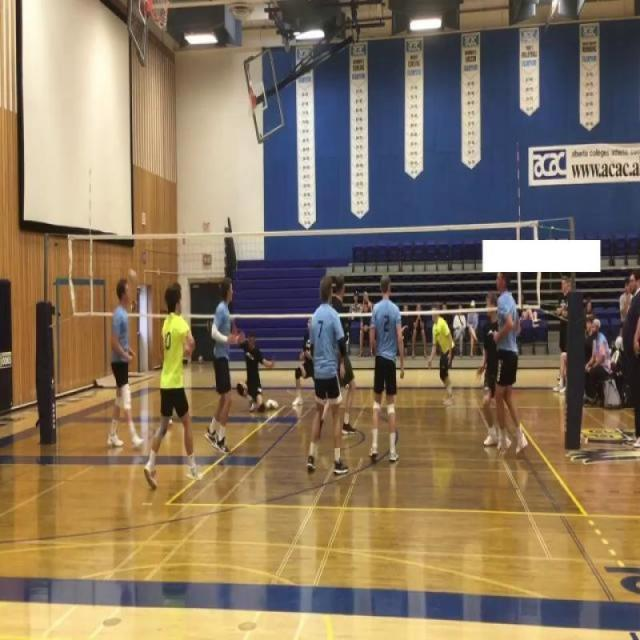volleyball: (128, 267, 137, 282), (197, 355, 204, 364)
